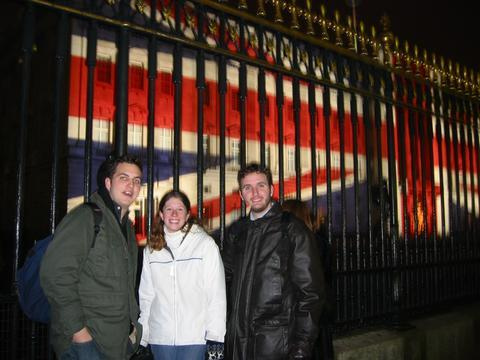without_mask: (103, 161, 143, 208), (237, 173, 274, 213), (157, 197, 192, 231)
